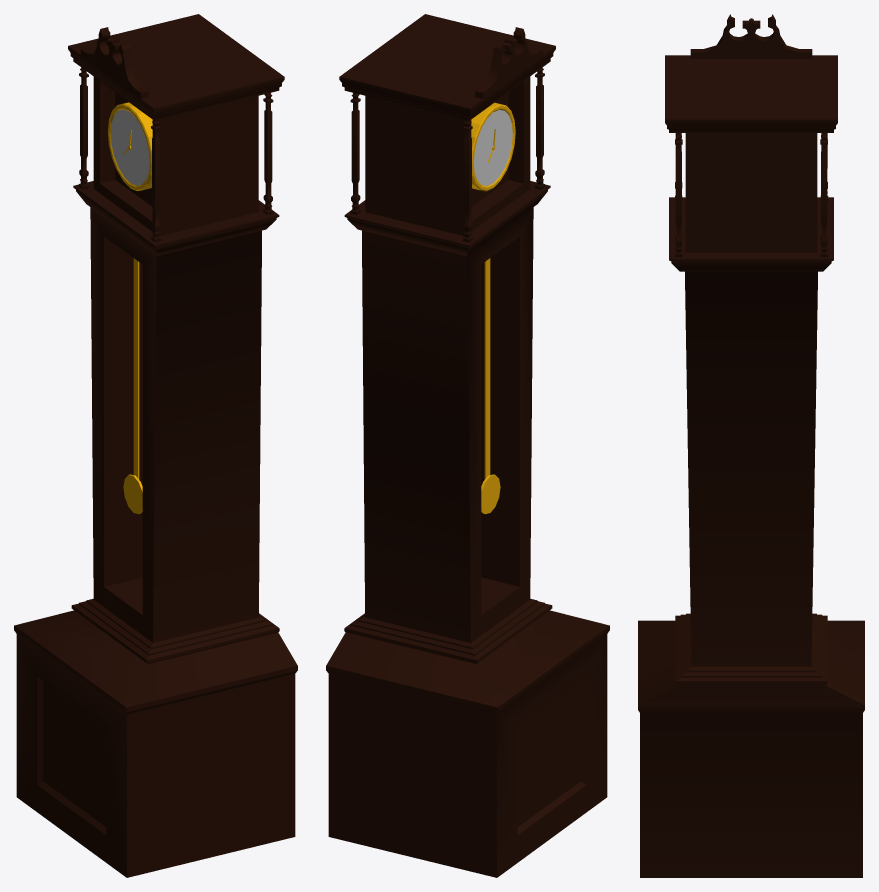
Rendered from Clock.FBX.
3 views of the same model, side by side, from view 1: azimuth 30°, elevation 25°; view 2: azimuth 150°, elevation 25°; view 3: azimuth 270°, elevation 25° (orthographic).
Parts seen in each view (by area): view 1: Frame001, New; view 2: Frame001, New; view 3: Frame001, New.
Boxes of the visible parts, <box> form: Frame001: <box>14,14,297,877</box>; New: <box>80,27,152,514</box>; Frame001: <box>326,14,609,877</box>; New: <box>471,27,543,514</box>; Frame001: <box>638,55,864,877</box>; New: <box>690,14,812,58</box>.
Bounding box in the file's own units: 55.53 × 245 × 62.85.
